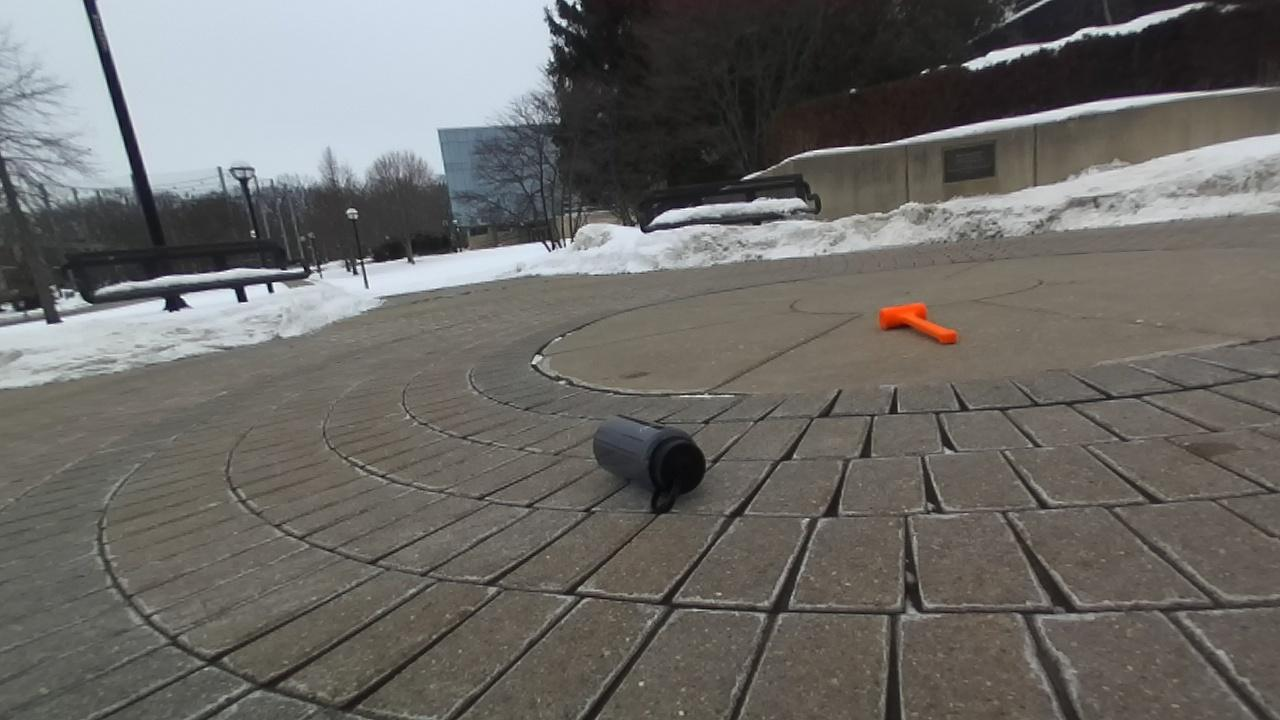bottle: (593, 416, 704, 512)
mallet: (879, 303, 957, 343)
